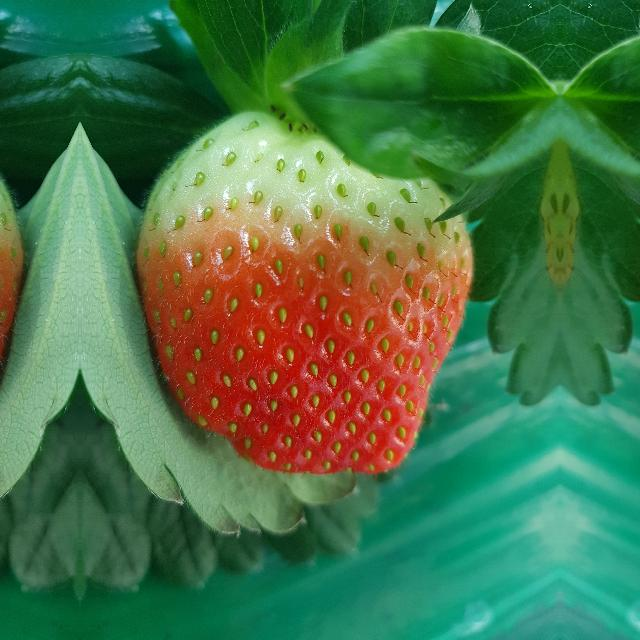Health_75: (133, 110, 471, 474)
